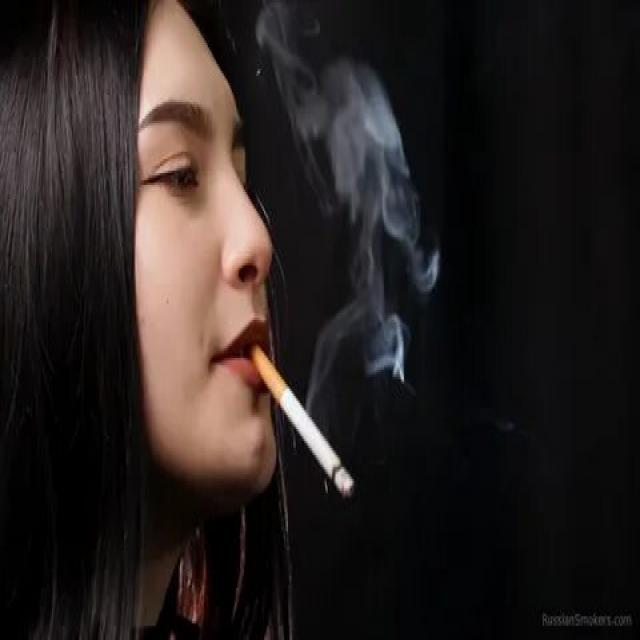smoke: (249, 339, 356, 498)
